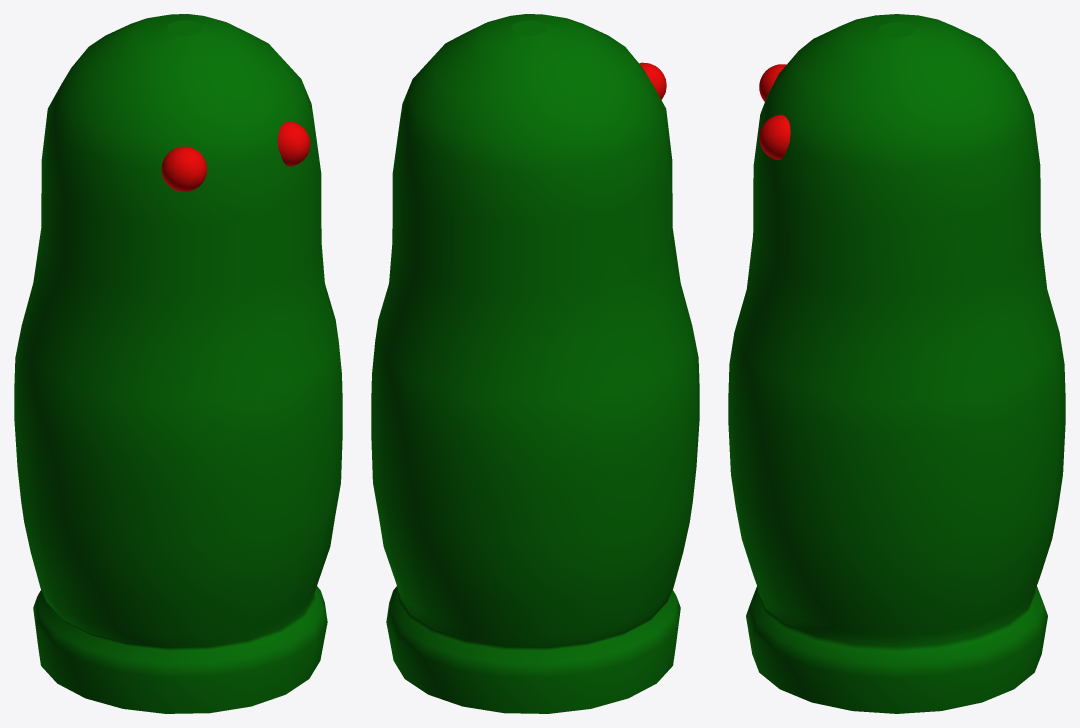
The model's file is person4.fbx.
The picture shows the model from 3 angles, left to right: view 1: azimuth 30°, elevation 25°; view 2: azimuth 150°, elevation 25°; view 3: azimuth 270°, elevation 25°; orthographic projection.
Parts seen in each view (by area): view 1: person3; view 2: person3; view 3: person3.
Part boxes in pixels (x1,y1,x2,y2): person3: (14, 14, 342, 713); person3: (371, 14, 699, 713); person3: (728, 14, 1065, 713).
Bounding box in the file's own units: 4.1 × 8.61 × 4.2.
